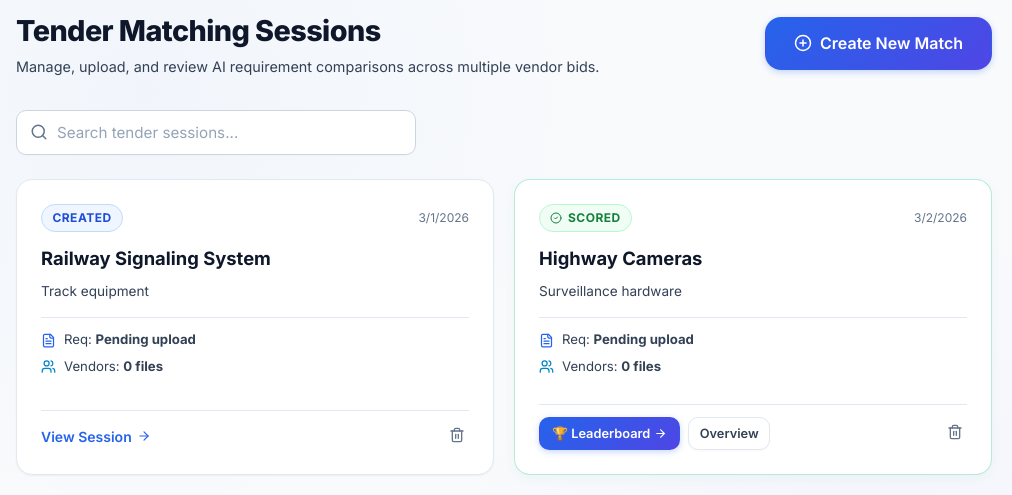
Test: DashboardPage › should filter tenders based on search input
The width and height of the screenshot is (1012, 495).
Expected: the heading "Railway Signaling System" is shown, [41,247,271,269]
In the field with placeholder "Search tender sessions...": (216, 132) [16,110,416,155], type "Railway"
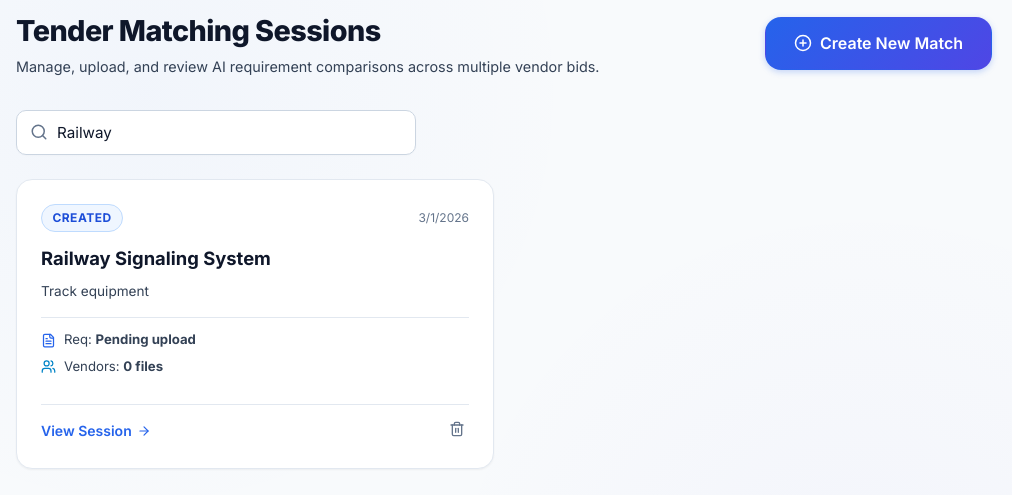
Expected: the heading "Railway Signaling System" is shown, [41,247,271,269]
Now the link "Highway Cameras" is gone
